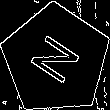N_SE: (25, 29, 87, 90)
